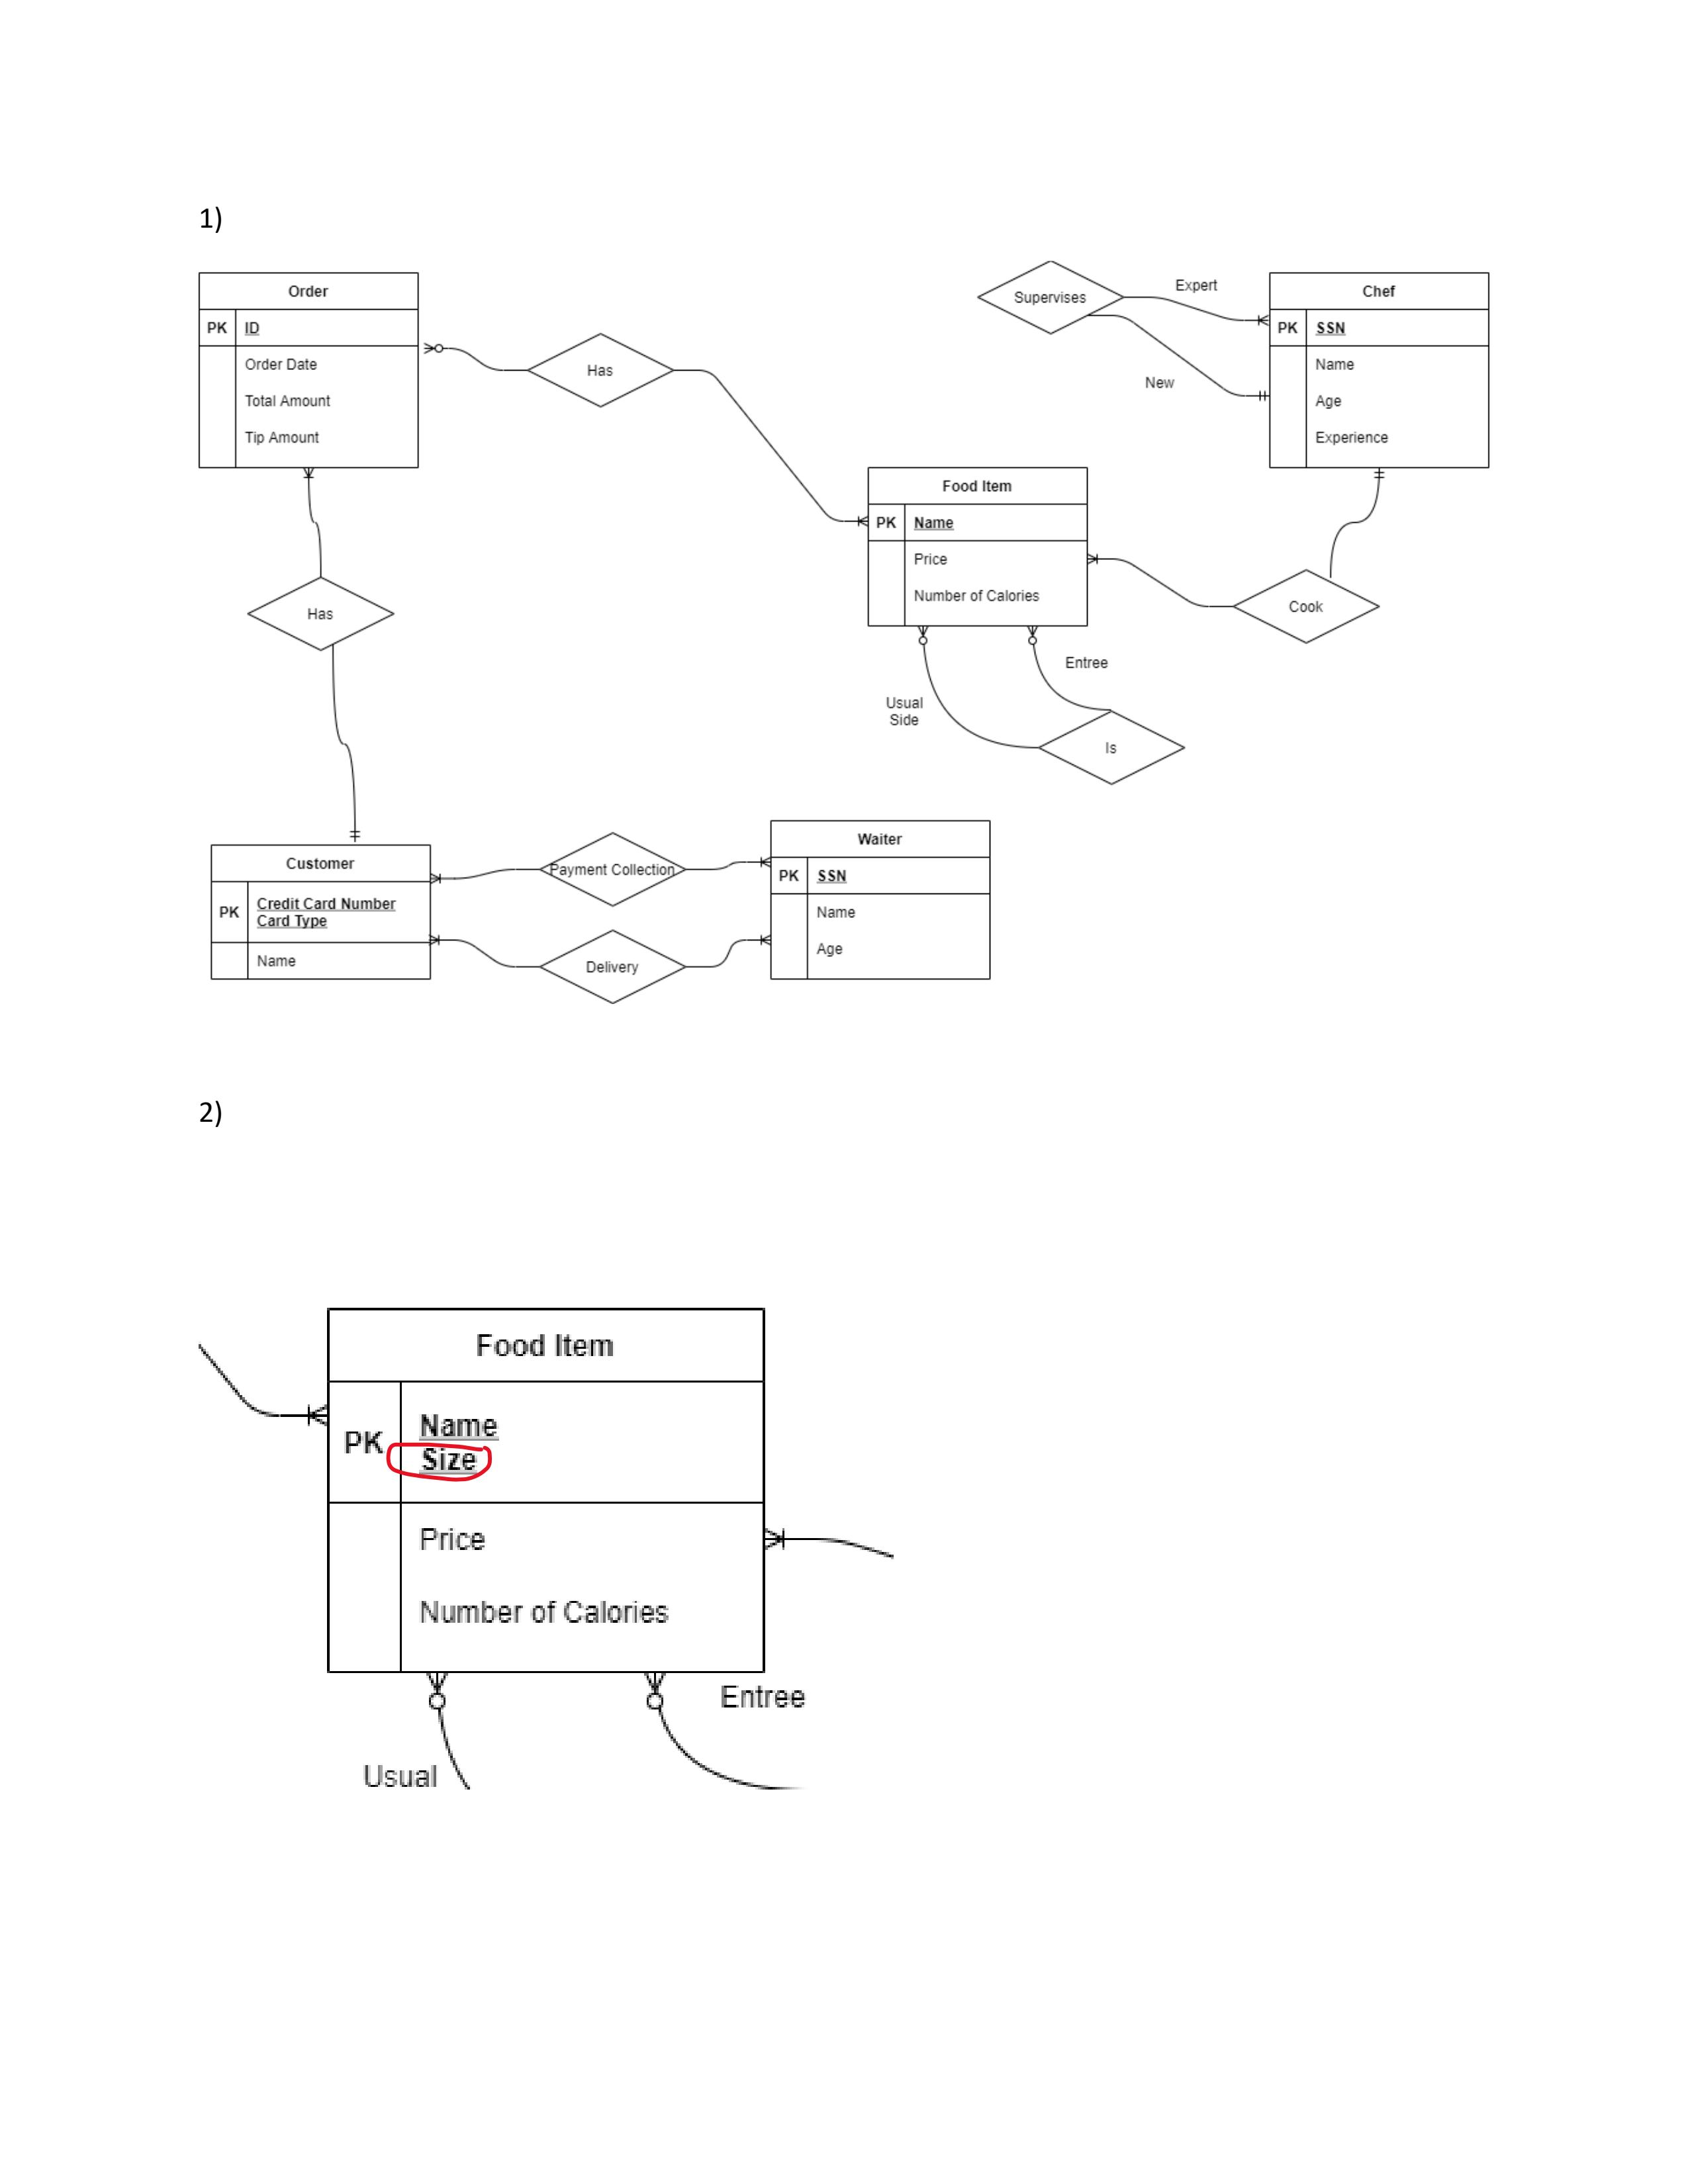Entity: (324, 1303, 770, 1677), (1268, 271, 1491, 472), (197, 271, 420, 470), (867, 464, 1090, 629), (770, 819, 993, 982), (209, 842, 433, 982)
Relationship: (537, 831, 686, 906), (1232, 569, 1381, 643), (528, 331, 674, 408), (246, 578, 394, 652), (539, 929, 686, 1003), (977, 261, 1124, 335), (1039, 711, 1184, 785)
